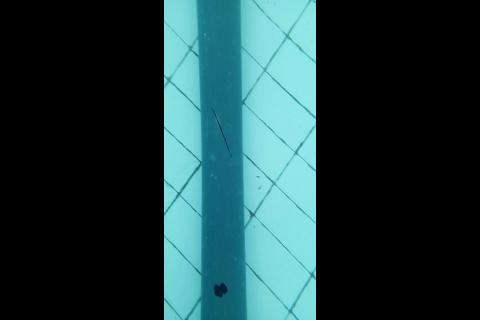kebocoran: (212, 281, 229, 299)
keretakan: (211, 105, 233, 158)
